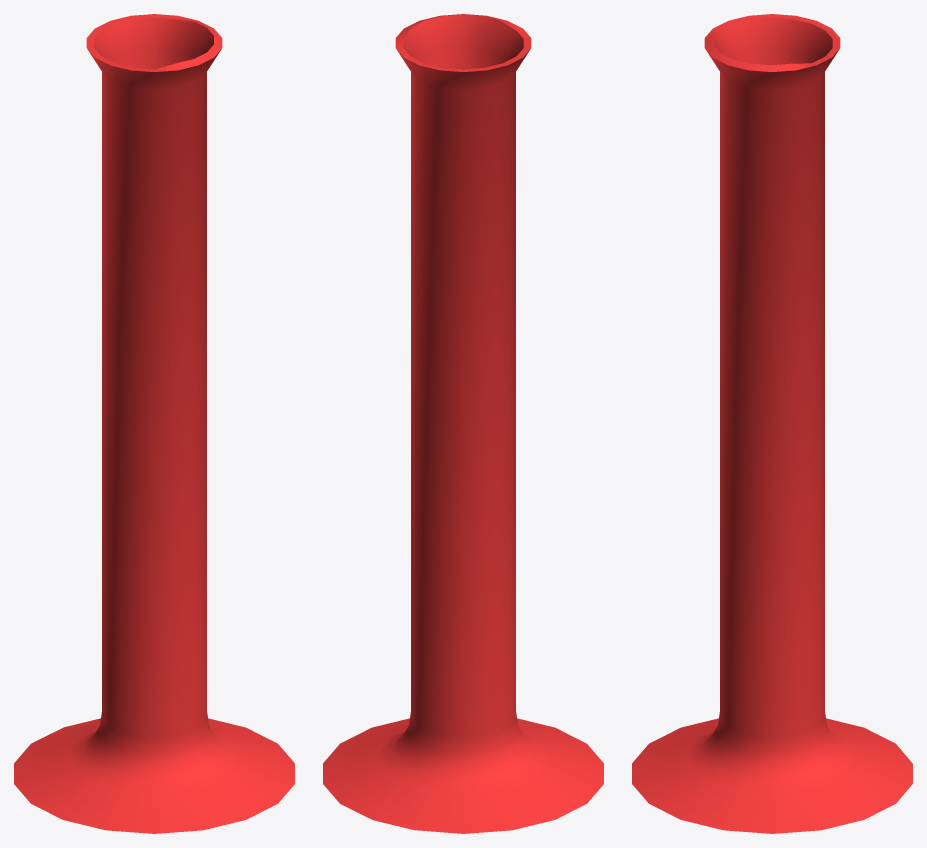
The model's file is ChemGrad.FBX.
3 views of the same model, side by side, from view 1: azimuth 30°, elevation 25°; view 2: azimuth 150°, elevation 25°; view 3: azimuth 270°, elevation 25° (orthographic).
Parts seen in each view (by area): view 1: ChemGradualThing; view 2: ChemGradualThing; view 3: ChemGradualThing.
Part boxes in pixels (x1,y1,x2,y2): ChemGradualThing: (14, 14, 294, 833); ChemGradualThing: (323, 14, 603, 833); ChemGradualThing: (632, 14, 912, 833).
Bounding box in the file's own units: 1.4 × 3.96 × 1.37.
